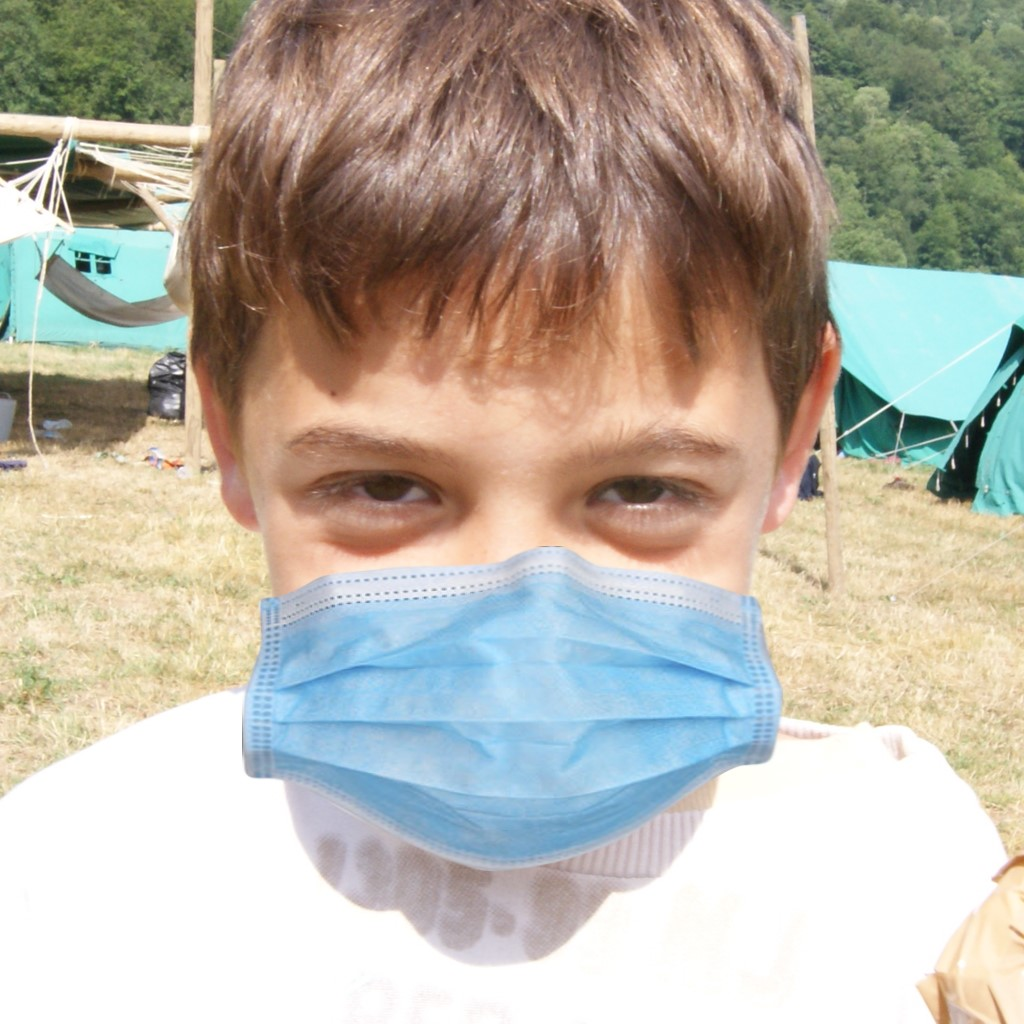con_mascara: (246, 124, 816, 839)
